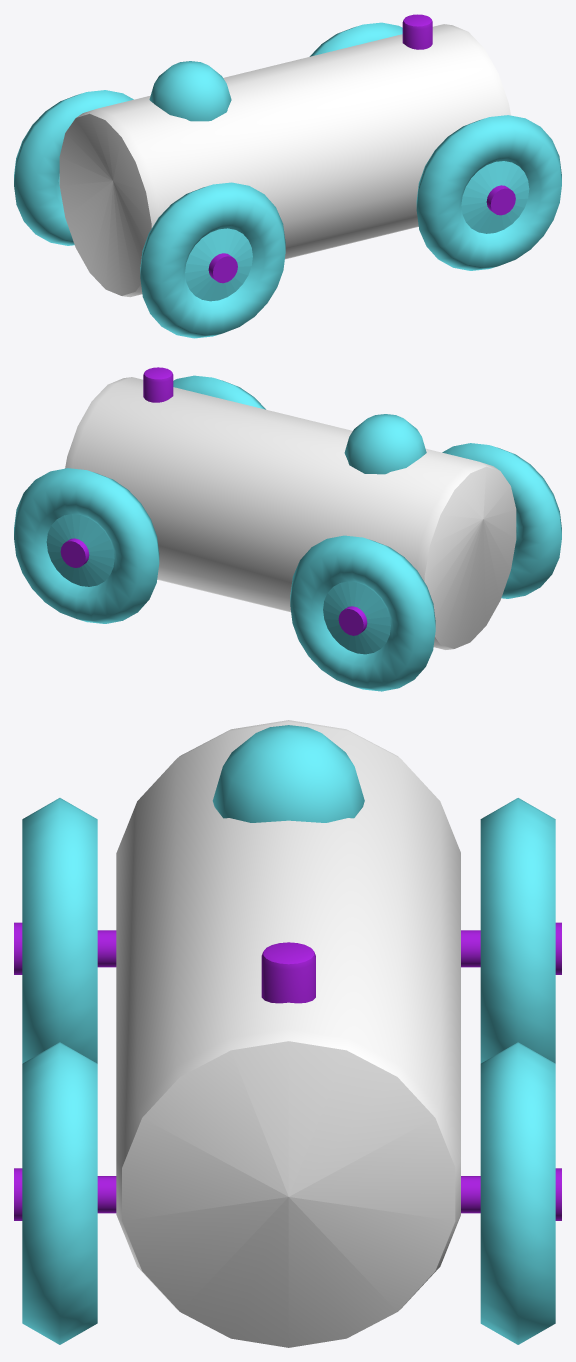
File: toy_car.fbx
3 views of the same model, one above another, from view 1: azimuth 30°, elevation 25°; view 2: azimuth 150°, elevation 25°; view 3: azimuth 270°, elevation 25° (orthographic). The views are drawn at different scales.
Parts seen in each view (by area): view 1: Cylinder008; view 2: Cylinder008; view 3: Cylinder008.
Boxes of the visible parts, <box> form: Cylinder008: <box>14,14,561,338</box>; Cylinder008: <box>14,367,561,691</box>; Cylinder008: <box>14,720,561,1347</box>.
Bounding box in the file's own units: 27.37 × 13.38 × 16.99.
